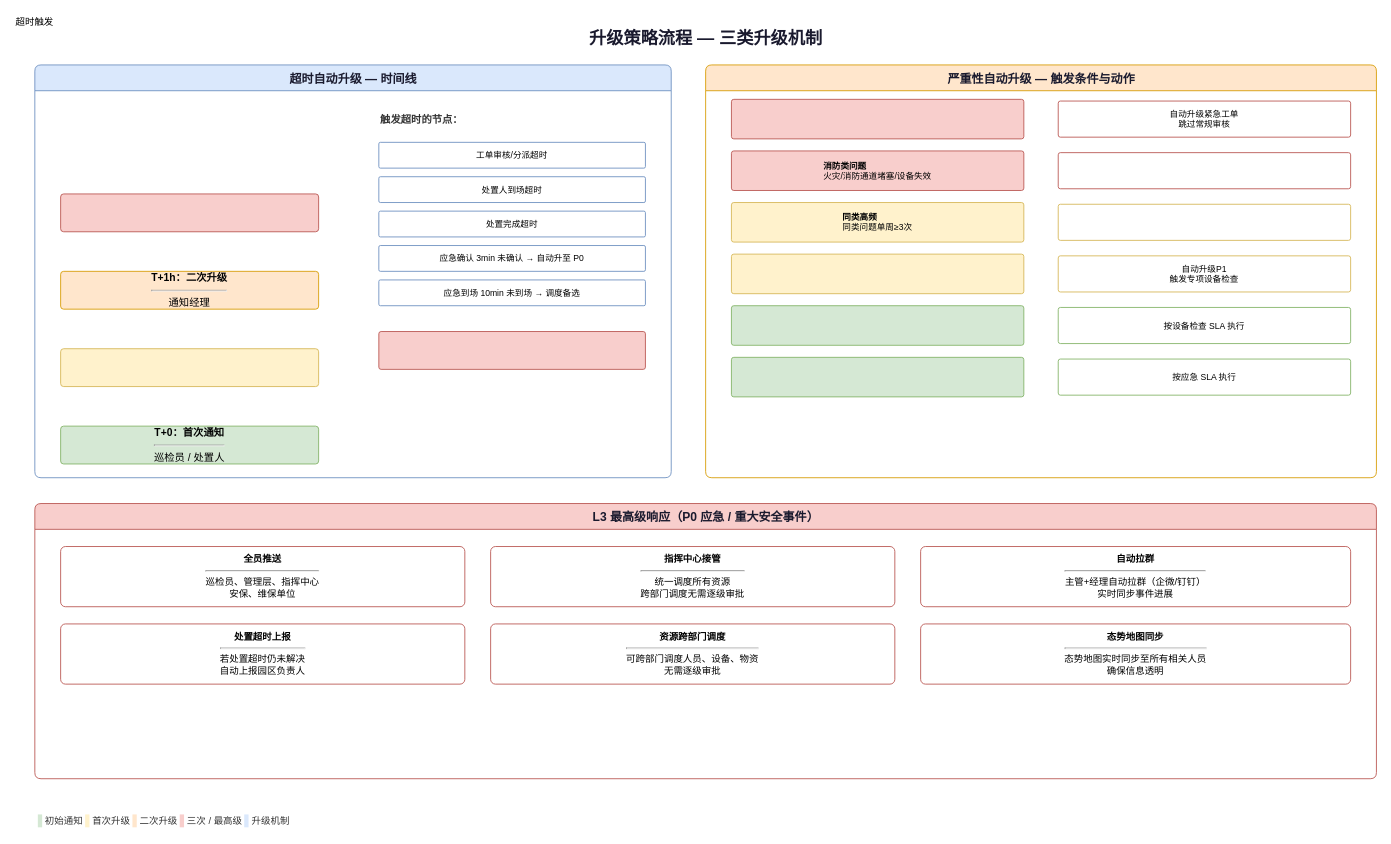
Some shapes in this 1391 by 844 pixel diagram are drawn without their labels. Each missing label, with the centre of its shape:
"P0 重大安全 AI判定严重等级为P0" goes at point (877, 118).
"T+2h：三次升级 通知园区负责人" goes at point (189, 212).
"T+30min：首次升级 通知主管" goes at point (189, 367).
"日常→设备 日常巡检发现设备异常" goes at point (877, 325).
"标记重点关注 升级至经理层面" goes at point (1204, 221).
"特殊规则：应急事件连续 2 次推送不确认 → 强制升级至最高级，全员推送 + 指挥中心接管" goes at point (511, 350).
"自动升级至最高级响应 全员推送 + 指挥中心接管" goes at point (1204, 170).
"设备→应急 设备检查发现重大隐患" goes at point (877, 376).
"设备参数持续超阈值 连续3次检测超标" goes at point (877, 273).
